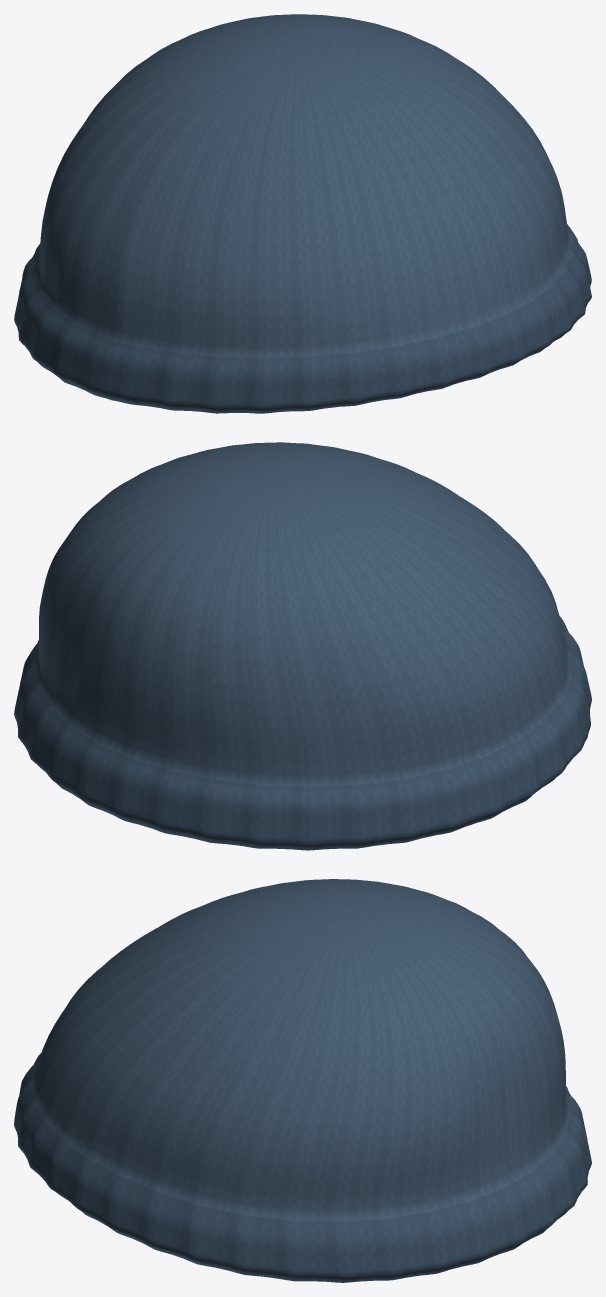
The model's file is beanie-masculine-sidepart.glb.
3 renders of one model, top to bottom at view 1: azimuth 30°, elevation 25°; view 2: azimuth 150°, elevation 25°; view 3: azimuth 270°, elevation 25°, orthographic.
Parts seen in each view (by area): view 1: Beanie / fitted knit; view 2: Beanie / fitted knit; view 3: Beanie / fitted knit.
Part boxes in pixels (x1=…): Beanie / fitted knit: x1=14, y1=14, x2=591, y2=413; Beanie / fitted knit: x1=14, y1=442, x2=591, y2=850; Beanie / fitted knit: x1=14, y1=879, x2=591, y2=1282.
Bounding box in the file's own units: 0.8045 × 0.4059 × 0.7874.
2 materials, 2 textured.
